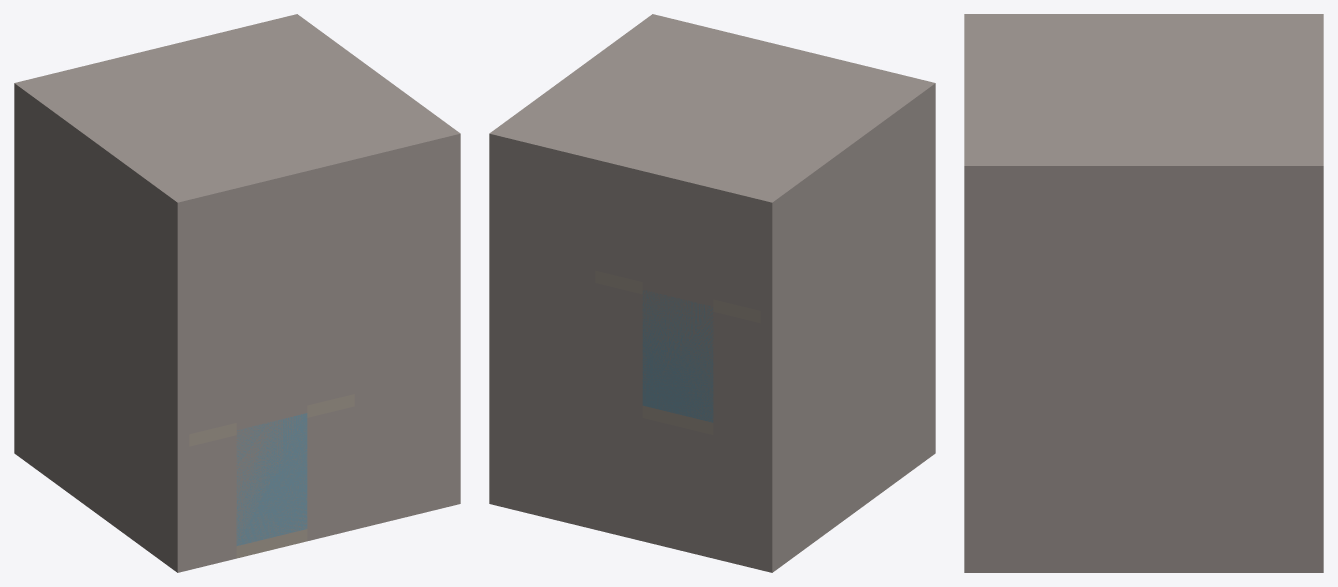
The model's file is creek-falls-mirror.glb.
3 views of the same model, side by side, from view 1: azimuth 30°, elevation 25°; view 2: azimuth 150°, elevation 25°; view 3: azimuth 270°, elevation 25° (orthographic). The views are drawn at different scales.
Visible parts, largest first — view 1: rock_45, rock_14, rock_37, plug_creek_south, rock_1, rock_5, rock_7, rock_18, water_4, rock_41, rock_42, rock_24 (+11 smaller); view 2: rock_45, rock_14, rock_2, rock_1, rock_37, plug_creek_north, rock_15, rock_38, rock_5, rock_8, water_5, plug_creek_north.001 (+6 smaller); view 3: rock_45, rock_4, rock_16, rock_39, rock_2, rock_15, rock_38.
Part boxes in pixels (x1,y1,x2,y2): rock_45: [14, 14, 460, 214]; rock_14: [14, 194, 189, 436]; rock_37: [14, 96, 189, 313]; plug_creek_south: [189, 307, 354, 434]; rock_1: [14, 318, 102, 517]; rock_5: [102, 382, 189, 572]; rock_7: [354, 377, 425, 529]; rock_18: [354, 253, 425, 393]; water_4: [236, 413, 307, 545]; rock_41: [307, 166, 378, 281]; rock_42: [236, 183, 307, 299]; rock_24: [189, 270, 354, 347]; rock_45: [489, 14, 935, 214]; rock_14: [760, 194, 935, 436]; rock_2: [489, 368, 642, 541]; rock_1: [713, 372, 860, 572]; rock_37: [760, 96, 935, 313]; plug_creek_north: [595, 184, 760, 310]; rock_15: [489, 245, 595, 393]; rock_38: [489, 146, 595, 270]; rock_5: [861, 318, 935, 507]; rock_8: [642, 418, 713, 558]; water_5: [642, 290, 713, 422]; plug_creek_north.001: [642, 282, 713, 421]; rock_45: [964, 14, 1323, 179]; rock_4: [964, 423, 1278, 572]; rock_16: [964, 288, 1308, 423]; rock_39: [964, 179, 1308, 287]; rock_2: [1278, 423, 1323, 572]; rock_15: [1308, 288, 1323, 423]; rock_38: [1308, 179, 1323, 287].
Bounding box in the file's own units: 12 × 15 × 12.
